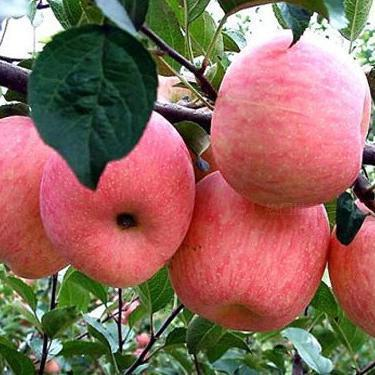apple: (41, 105, 198, 289), (210, 31, 372, 209), (167, 171, 330, 330), (1, 114, 67, 279), (327, 200, 375, 336)
